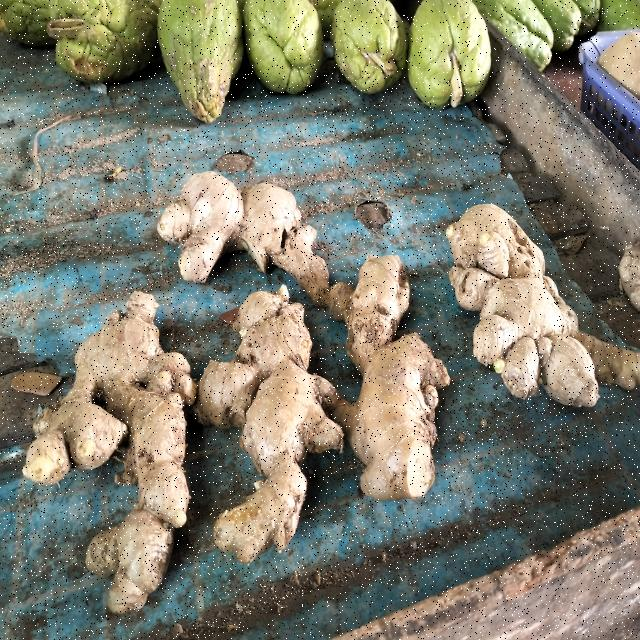ginger: (17, 271, 191, 618), (444, 200, 632, 424), (199, 276, 343, 554), (347, 263, 450, 528), (156, 153, 337, 288)
